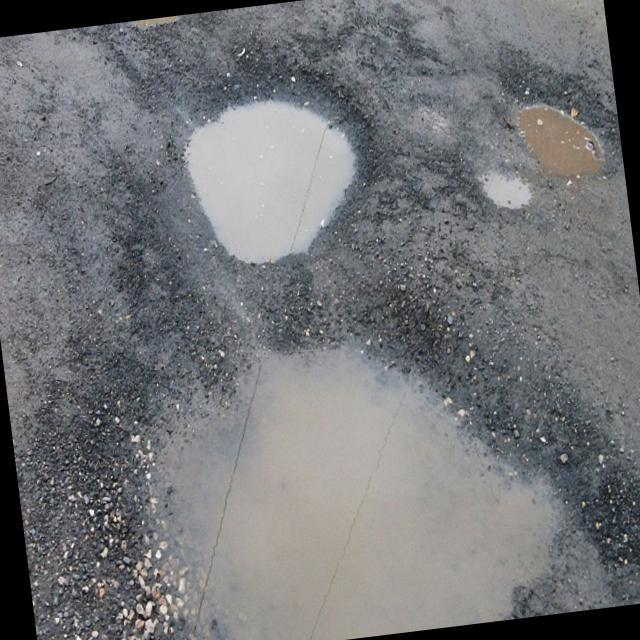Pothole: (49, 252, 640, 640), (149, 53, 444, 270), (499, 49, 633, 260), (468, 154, 550, 228)
